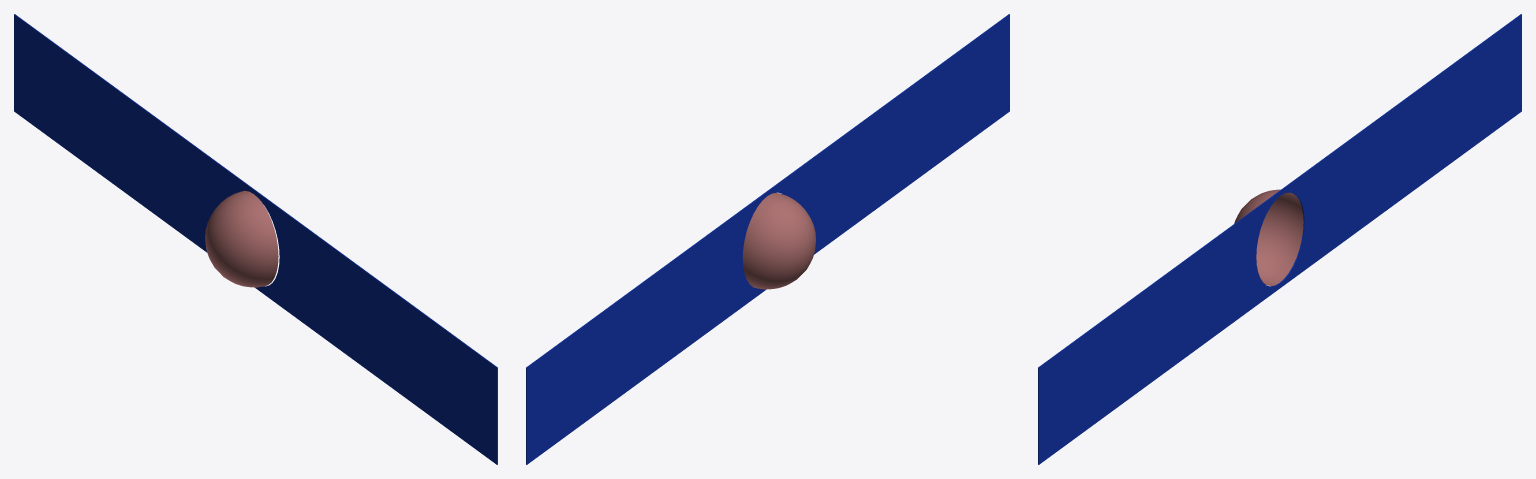
Rendered from 10x90 one nip.FBX.
3 views of the same model, side by side, from view 1: azimuth 30°, elevation 25°; view 2: azimuth 150°, elevation 25°; view 3: azimuth 330°, elevation 25° (orthographic).
Parts seen in each view (by area): view 1: Box066; view 2: Box066; view 3: Box066.
Boxes of the visible parts, x1=… form: Box066: x1=14, y1=14, x2=497, y2=464; Box066: x1=526, y1=14, x2=1009, y2=464; Box066: x1=1038, y1=14, x2=1521, y2=464.
Size of the model in its own units: 4.69 by 10 by 90.08.
